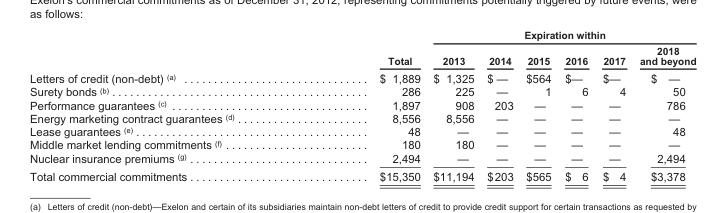table: (29, 28, 695, 182)
table column: (29, 28, 306, 182), (306, 28, 426, 182), (632, 28, 695, 182), (426, 28, 479, 182), (479, 28, 519, 182), (519, 28, 557, 182), (594, 28, 632, 182), (557, 28, 594, 182)
table column header: (29, 28, 695, 68)
table row: (29, 42, 695, 68), (29, 68, 695, 84), (29, 150, 695, 166), (29, 166, 695, 182), (29, 28, 695, 42), (29, 97, 695, 111), (29, 84, 695, 97), (29, 111, 695, 124), (29, 124, 695, 137), (29, 137, 695, 150)
table spanning cell: (306, 28, 426, 68), (426, 28, 695, 42)
